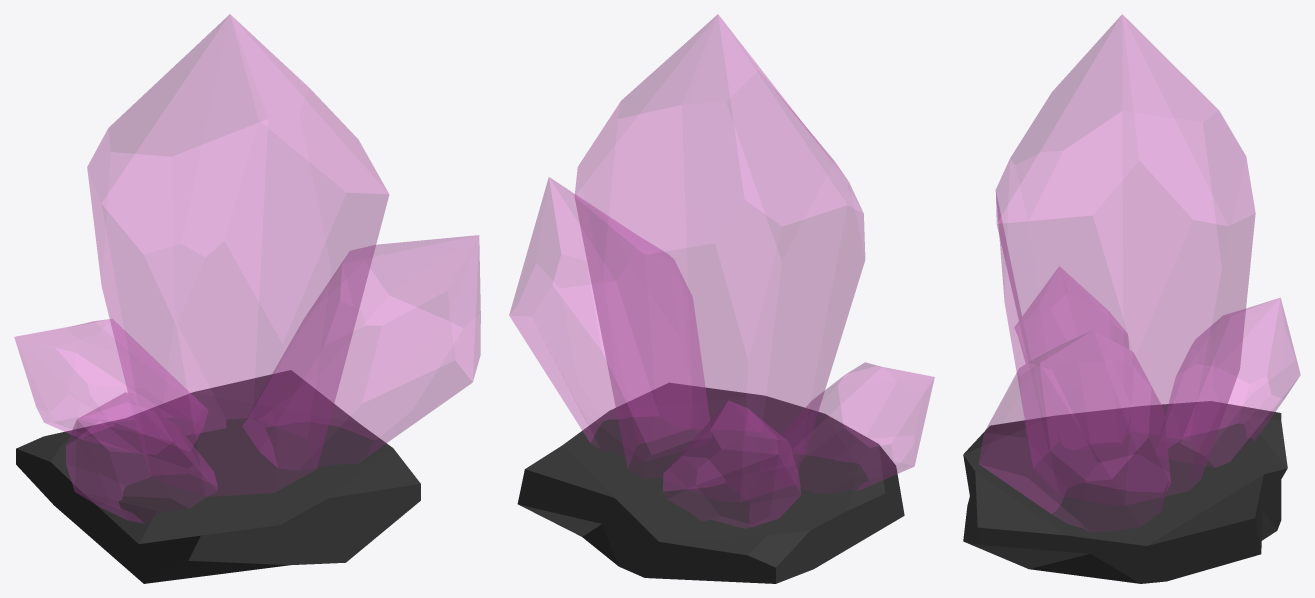
File: Crystal.glb
3 views of the same model, side by side, from view 1: azimuth 30°, elevation 25°; view 2: azimuth 150°, elevation 25°; view 3: azimuth 270°, elevation 25° (orthographic).
Parts seen in each view (by area): view 1: Circle; view 2: Circle; view 3: Circle.
Boxes of the visible parts, x1,y1,x2,y2 form: Circle: (14,14,480,583); Circle: (509,14,934,583); Circle: (963,14,1300,583).
Size of what is drawn, in the model's own units: 0.8844 by 1.06 by 0.6356.
